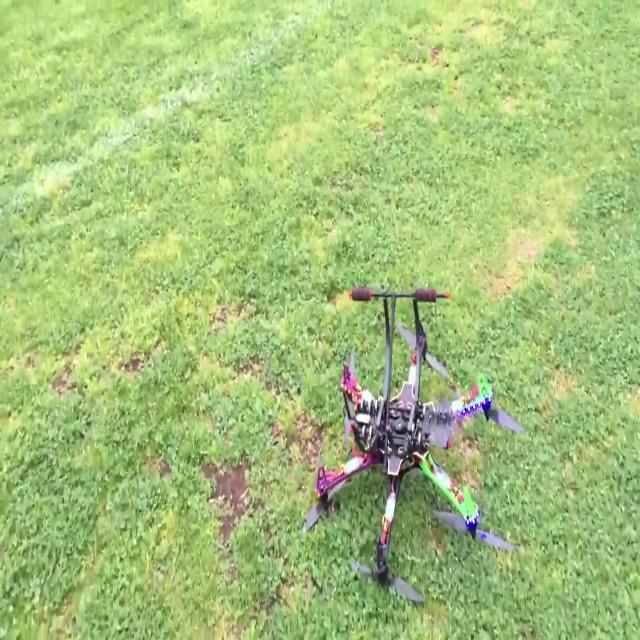drone: (295, 287, 518, 616)
